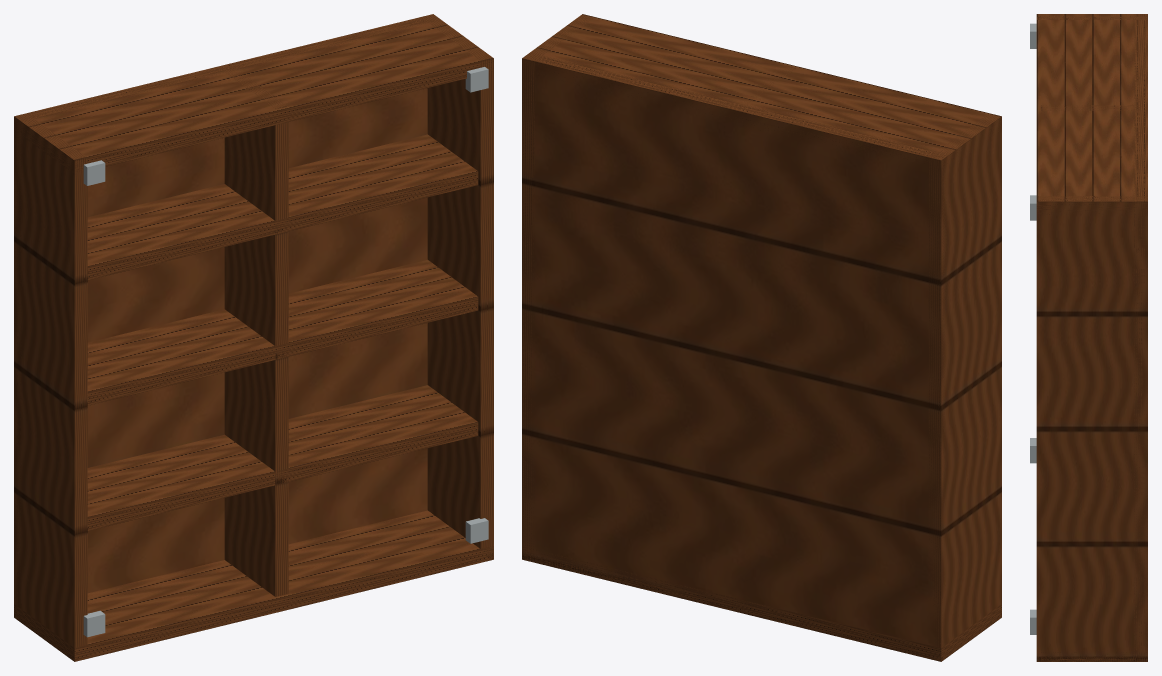
The model's file is suburban-outbreak-interiors-room-divider-cubby-3a8d732f__19973.glb.
The picture shows the model from 3 angles, left to right: view 1: azimuth 30°, elevation 25°; view 2: azimuth 150°, elevation 25°; view 3: azimuth 270°, elevation 25°; orthographic projection. The views are drawn at different scales.
Parts seen in each view (by area): view 1: room-divider-cubby; view 2: room-divider-cubby; view 3: room-divider-cubby.
Boxes of the visible parts, left/top/right/bottom form: room-divider-cubby: left=14, top=14, right=493, bottom=661; room-divider-cubby: left=522, top=14, right=1001, bottom=661; room-divider-cubby: left=1030, top=14, right=1147, bottom=661.
Bounding box in the file's own units: 1.4 × 1.6 × 0.371.
2 materials, 1 textured.
